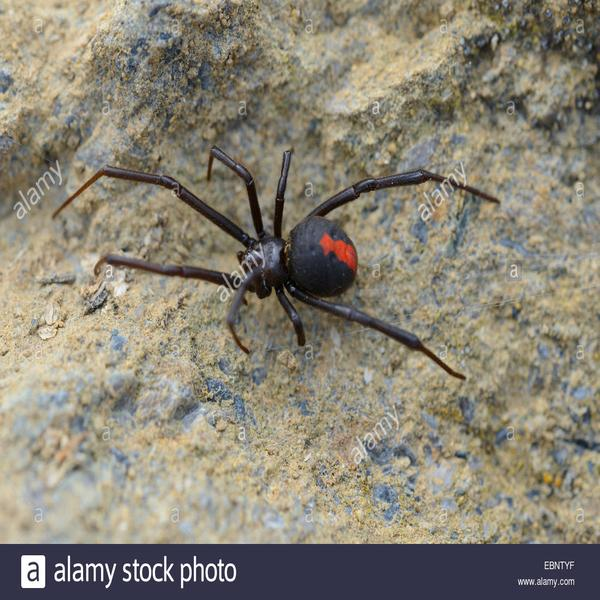Redback Spider: (54, 144, 501, 383)
